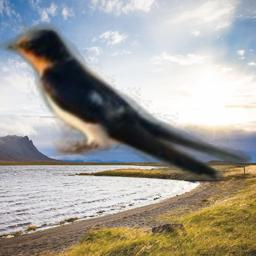Swallow: (0, 20, 252, 180)
